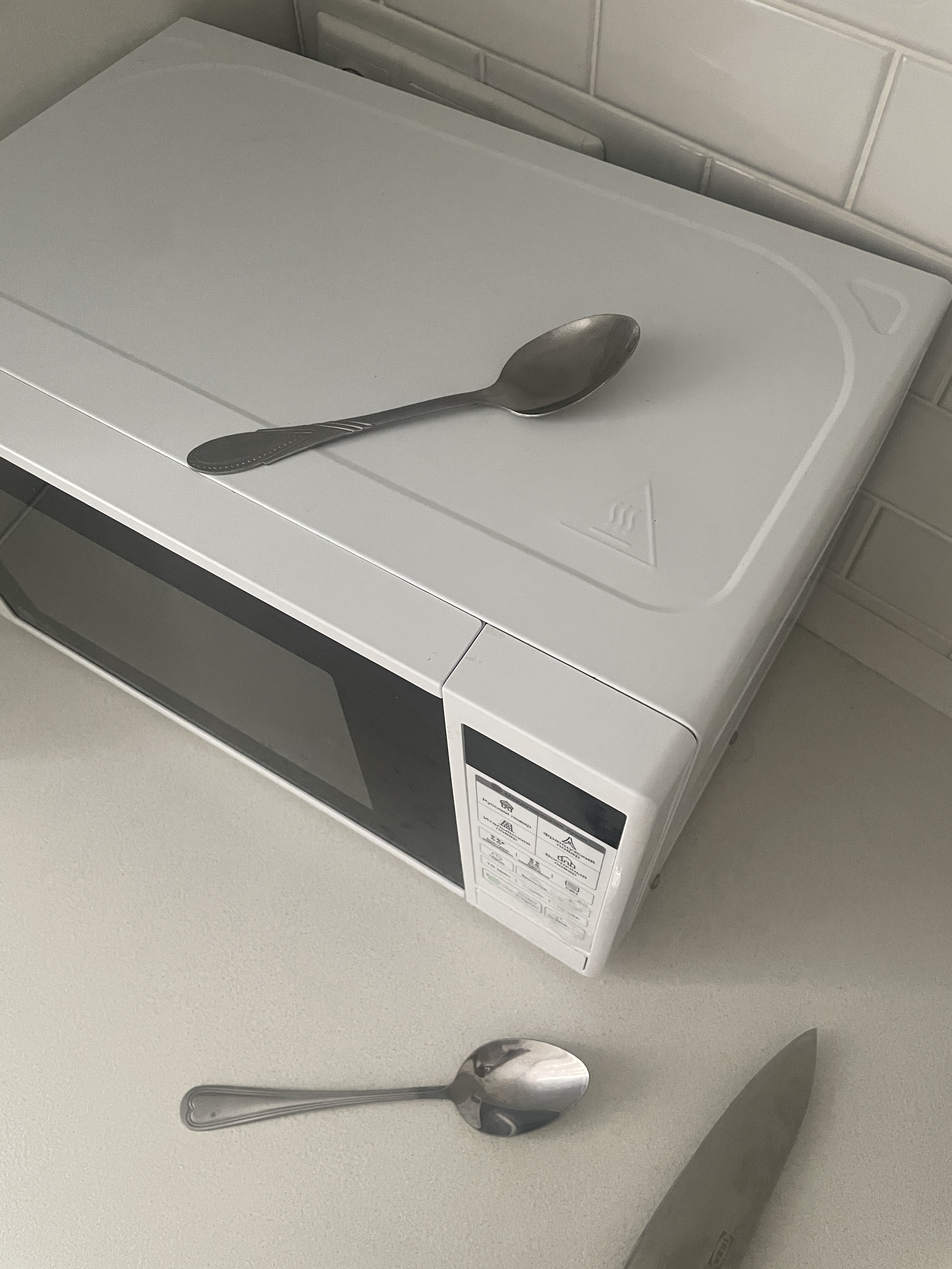knife: (621, 1028, 817, 1269)
spoon: (191, 315, 642, 472), (180, 1037, 591, 1135)
